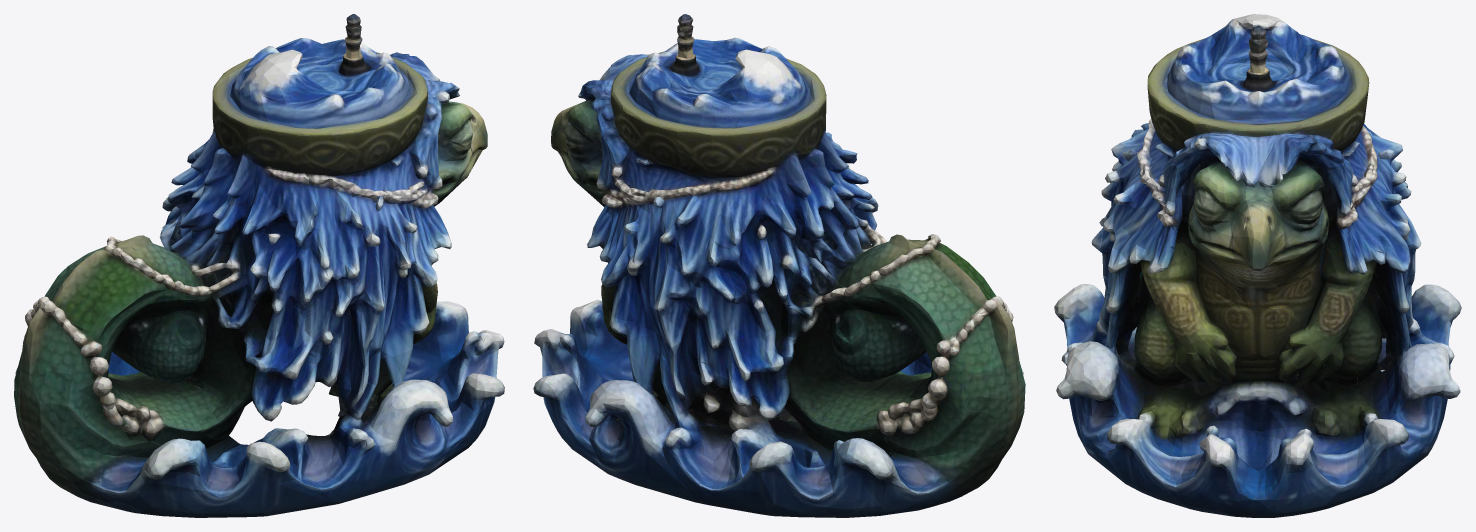
File: kappadeep__suijinOfTheDeep.glb
3 renders of one model, left to right at view 1: azimuth 30°, elevation 25°; view 2: azimuth 150°, elevation 25°; view 3: azimuth 270°, elevation 25°, orthographic. The views are drawn at different scales.
Parts seen in each view (by area): view 1: world; view 2: world; view 3: world.
Boxes of the visible parts, x1,y1,x2,y2 form: world: [14, 14, 504, 517]; world: [533, 14, 1025, 517]; world: [1054, 14, 1461, 517].
Bounding box in the file's own units: 1 × 0.8289 × 0.709.
Materials: 1 (1 with a texture image).
